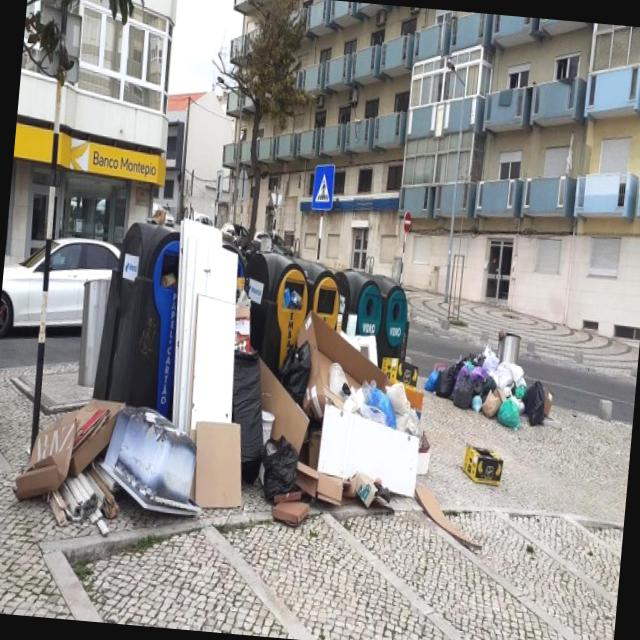garbage: (0, 234, 444, 547), (432, 331, 560, 438)
